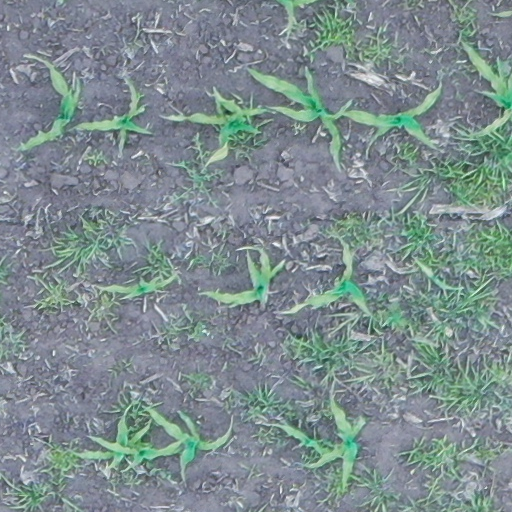planta: (245, 65, 443, 166), (274, 394, 368, 494), (57, 412, 186, 480), (299, 233, 380, 327), (186, 88, 271, 165), (15, 59, 83, 154), (139, 402, 231, 471), (202, 244, 284, 309), (96, 268, 180, 302), (72, 111, 151, 146), (126, 84, 147, 117), (497, 126, 505, 134)
